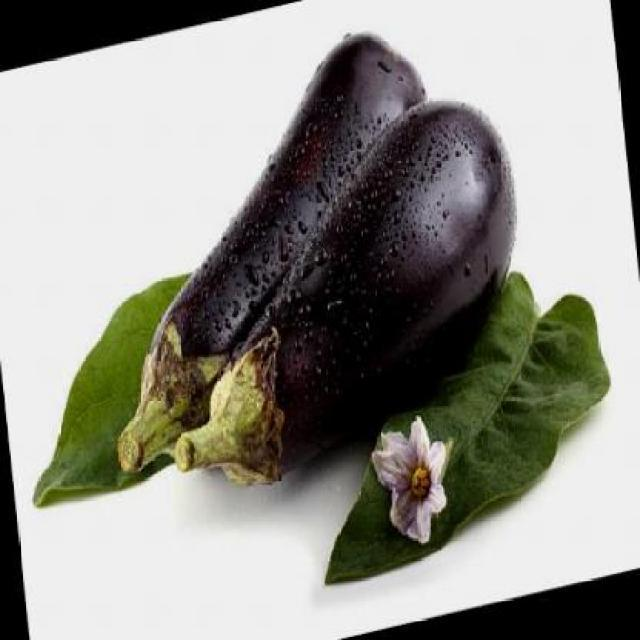eggplant: (118, 26, 458, 478), (183, 100, 528, 507)
